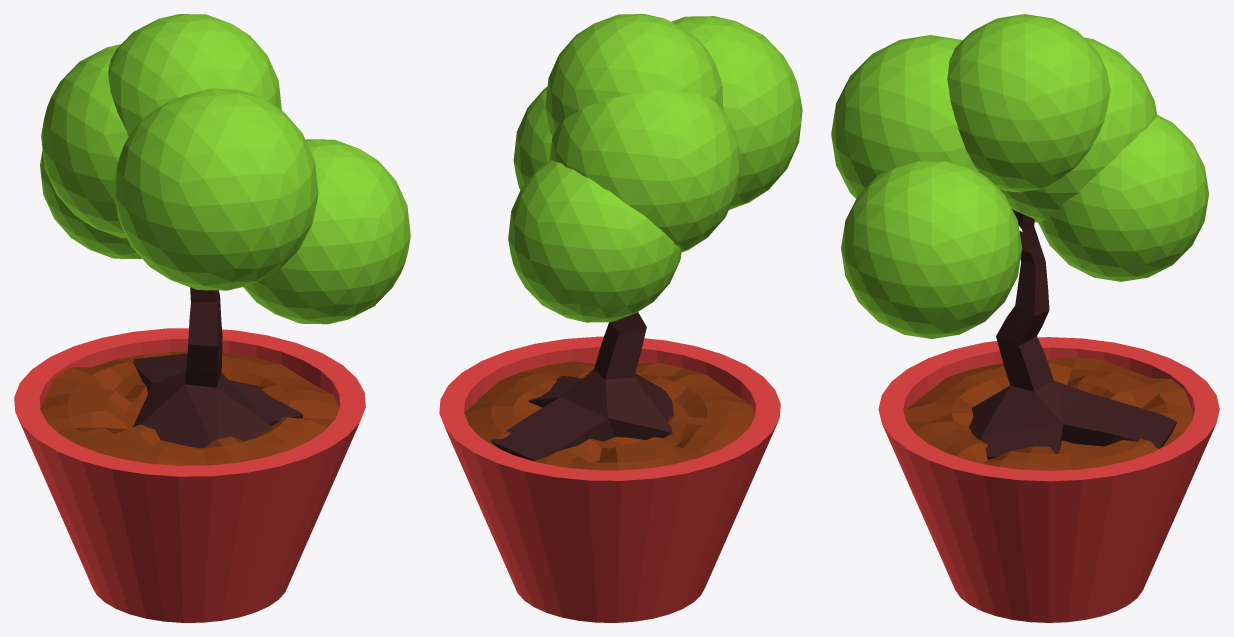
File: Vaso com Planta.fbx
3 views of the same model, side by side, from view 1: azimuth 30°, elevation 25°; view 2: azimuth 150°, elevation 25°; view 3: azimuth 270°, elevation 25° (orthographic). The views are drawn at different scales.
Parts seen in each view (by area): view 1: Icosphere.012; view 2: Icosphere.012; view 3: Icosphere.012.
Boxes of the visible parts, bbox=[...] form: Icosphere.012: bbox=[14, 14, 410, 622]; Icosphere.012: bbox=[439, 14, 802, 622]; Icosphere.012: bbox=[831, 14, 1219, 622].
Bounding box in the file's own units: 278 × 498 × 317.
